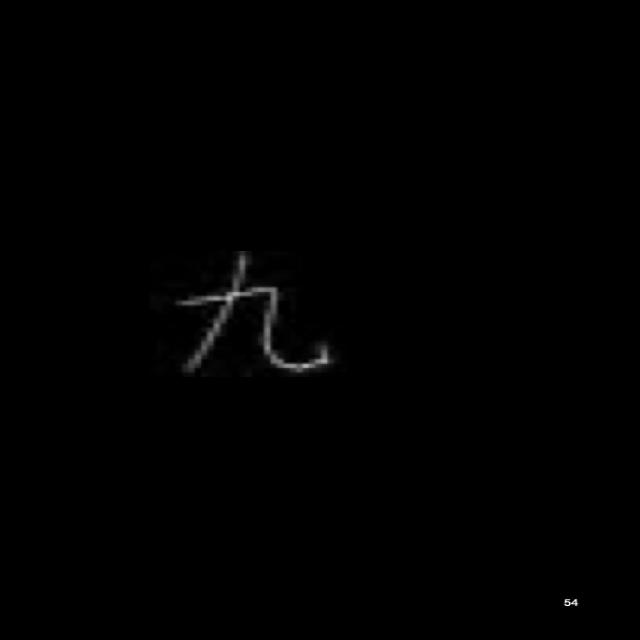9 -nine-: (170, 253, 338, 385)
